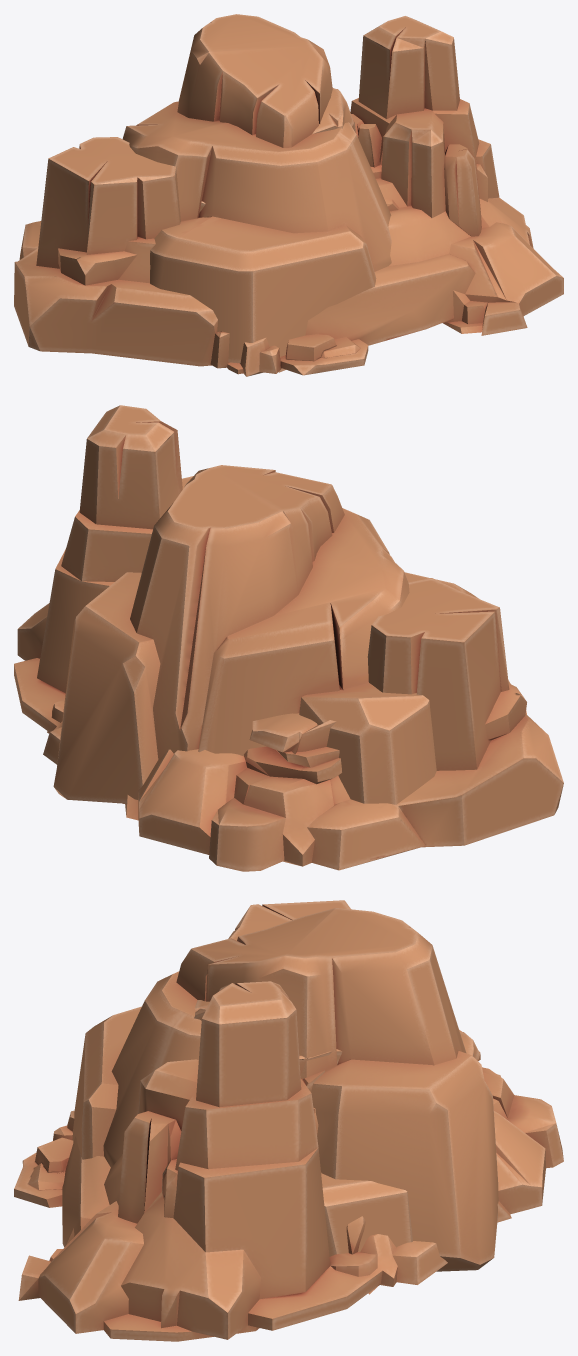
The model's file is Rocks_2.fbx.
3 views of the same model, one above another, from view 1: azimuth 30°, elevation 25°; view 2: azimuth 150°, elevation 25°; view 3: azimuth 270°, elevation 25° (orthographic). The views are drawn at different scales.
Parts seen in each view (by area): view 1: Rock_1, Rock_2, Rock_3; view 2: Rock_2, Rock_1; view 3: Rock_1, Rock_2, Rock_3.
Boxes of the visible parts, x1=… form: Rock_1: x1=14, y1=16, x2=563, y2=376; Rock_2: x1=122, y1=14, x2=391, y2=372; Rock_3: x1=199, y1=88, x2=355, y2=212; Rock_2: x1=53, y1=465, x2=478, y2=804; Rock_1: x1=14, y1=405, x2=563, y2=871; Rock_1: x1=14, y1=900, x2=563, y2=1341; Rock_2: x1=72, y1=908, x2=498, y2=1271; Rock_3: x1=194, y1=1000, x2=413, y2=1256.
Bounding box in the file's own units: 2600 × 1284 × 2107.
13 materials, 13 textured.
